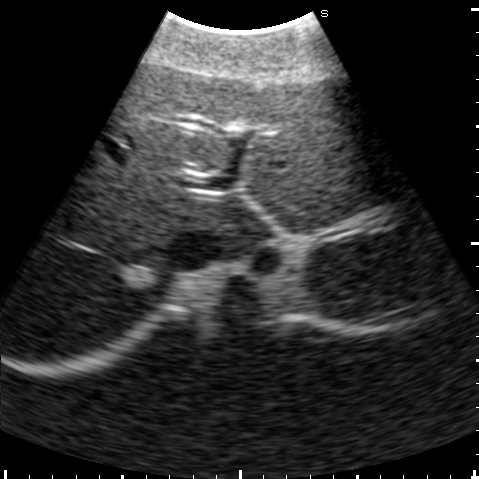IVC: (168, 231, 227, 272)
S1: (216, 198, 274, 259)
S2: (239, 168, 412, 234)
S3: (233, 73, 400, 208)
